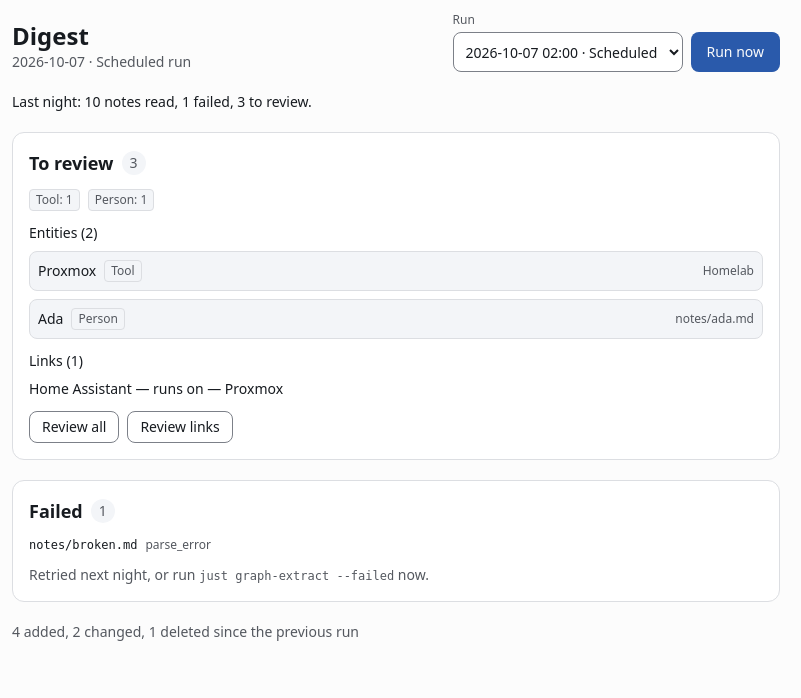
Test: DigestScreen › posts Run now and shows the busy copy on 409
The width and height of the screenshot is (801, 698).
Expected: the heading "Digest" is shown, [12,19,89,52]
Click the button "Run now" at point(735, 52), box [690,32,780,72]
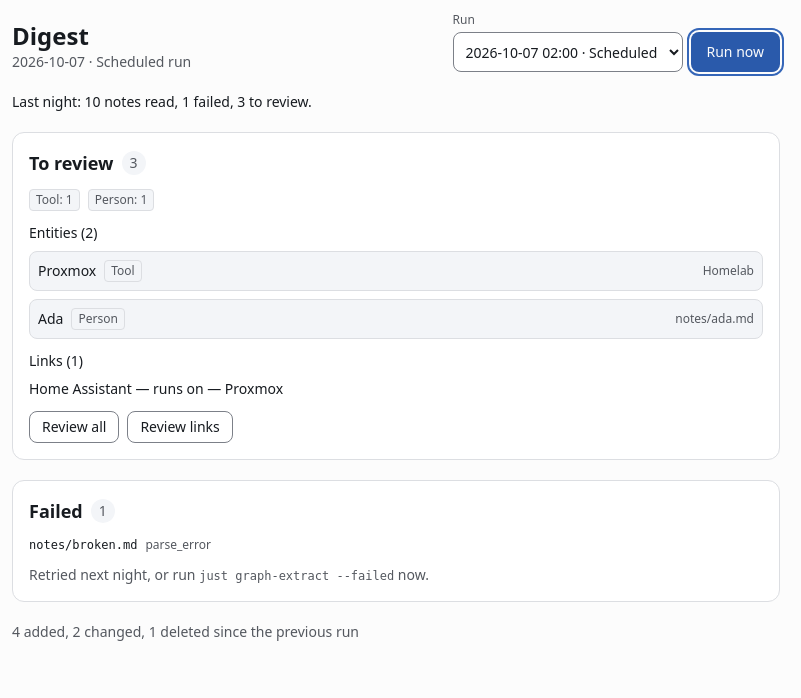
Expected: the text "A run is already in progress." is not shown
Click the button "Run now" at point(735, 52), box [690,32,780,72]
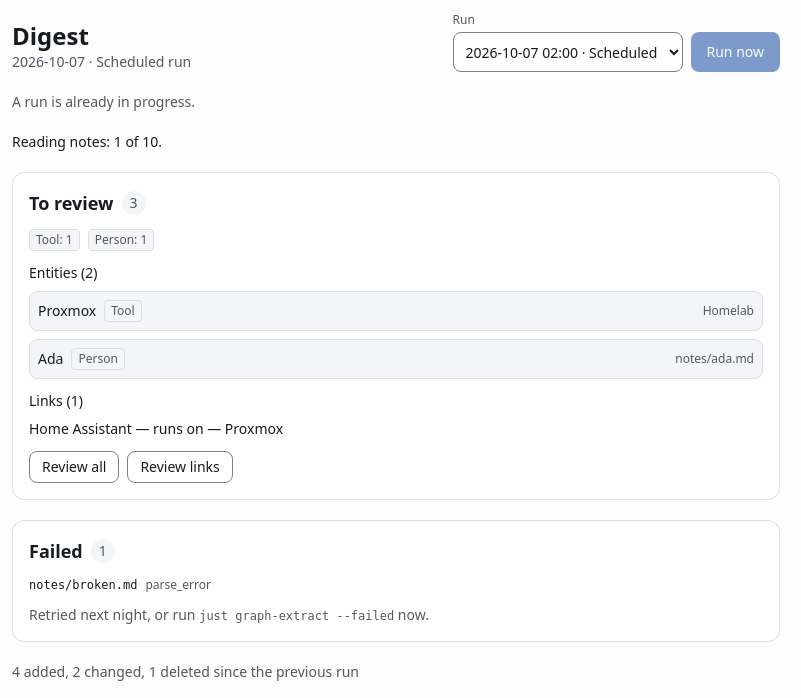
Expected: the text "Reading notes: 1 of 10." is shown, [12,132,162,151]
